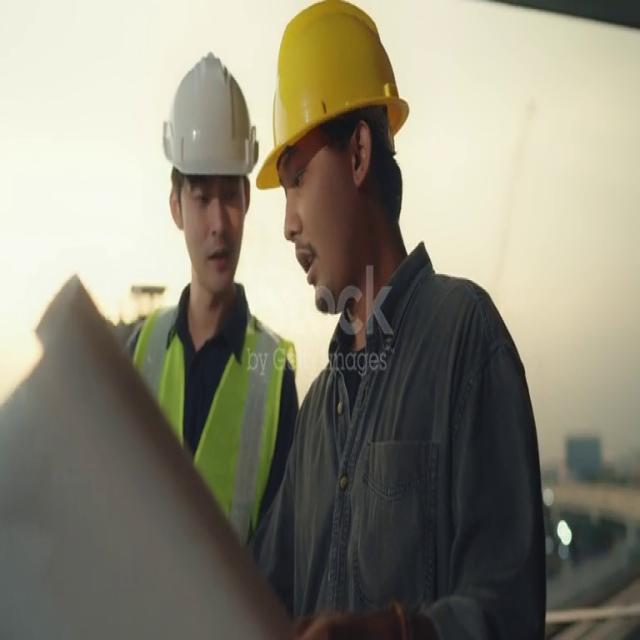capacete: (245, 5, 420, 194), (148, 38, 264, 205)
